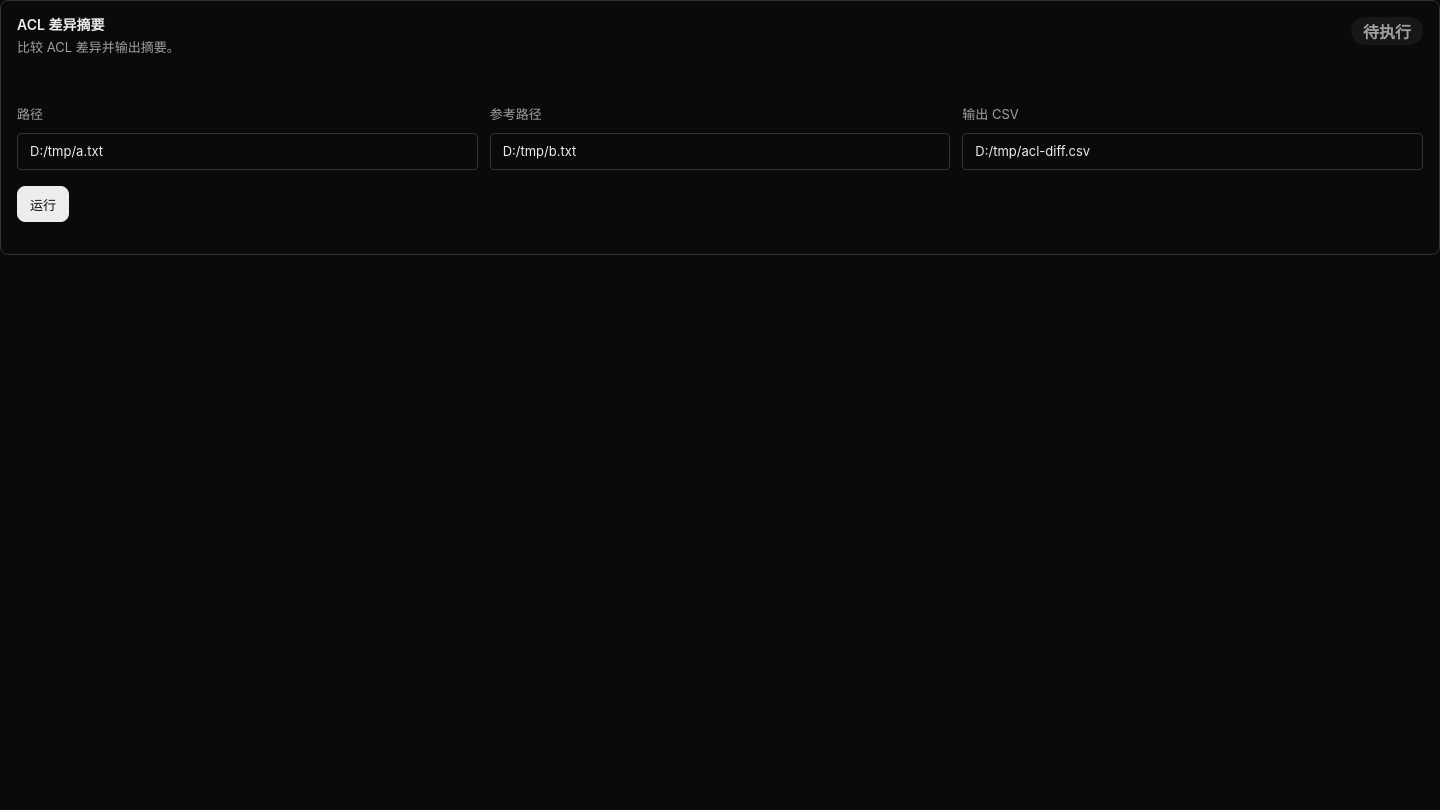
Test: TaskToolCard › renders governance execute summary for acl:diff run tasks
Click the button "运行" at coordinates (43, 204), box [17, 186, 69, 222]
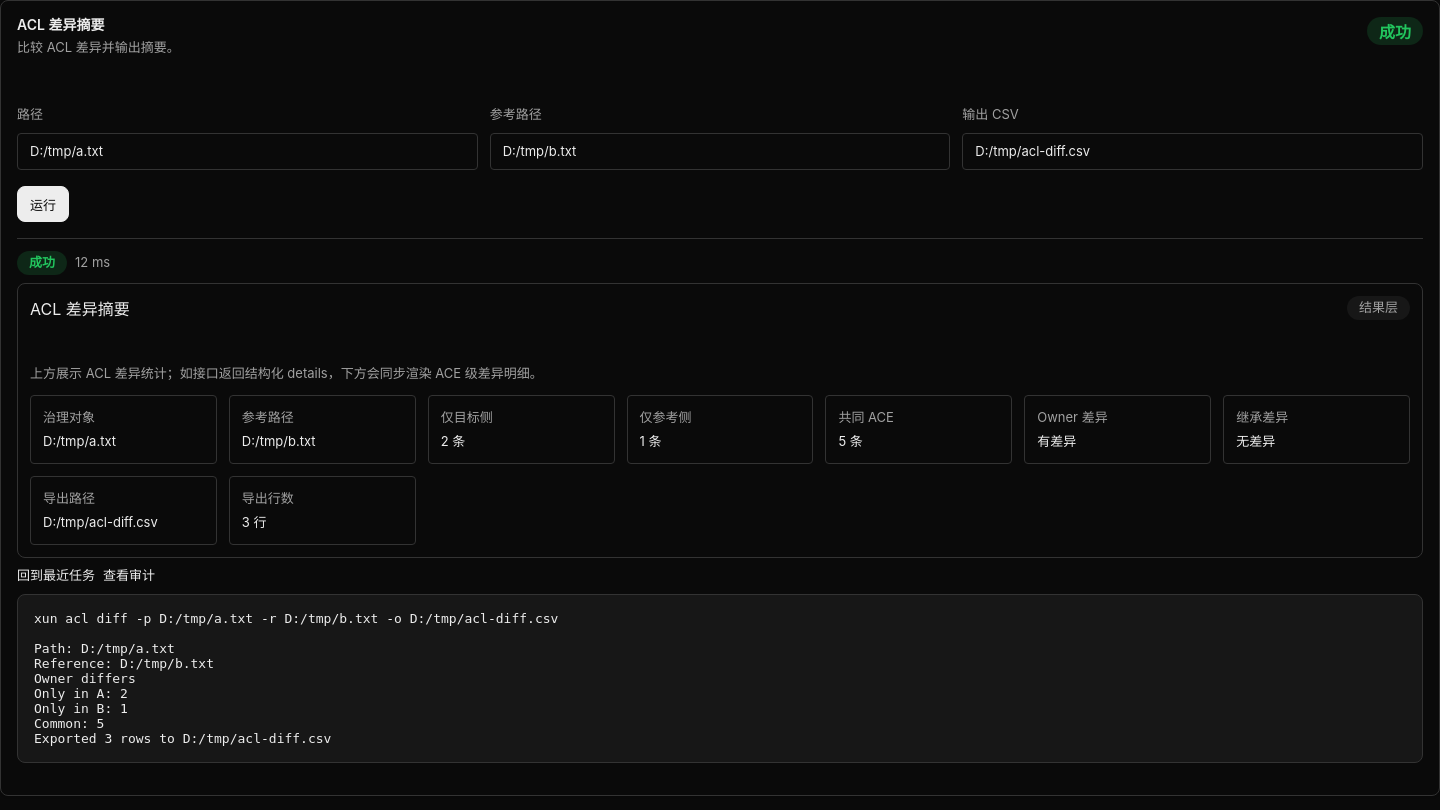
Result: the text "D:/tmp/b.txt" is shown at [242, 433, 316, 449]
Result: the text "2 条" is shown at [441, 433, 465, 449]
Result: the text "D:/tmp/acl-diff.csv" is shown at [43, 514, 158, 530]
